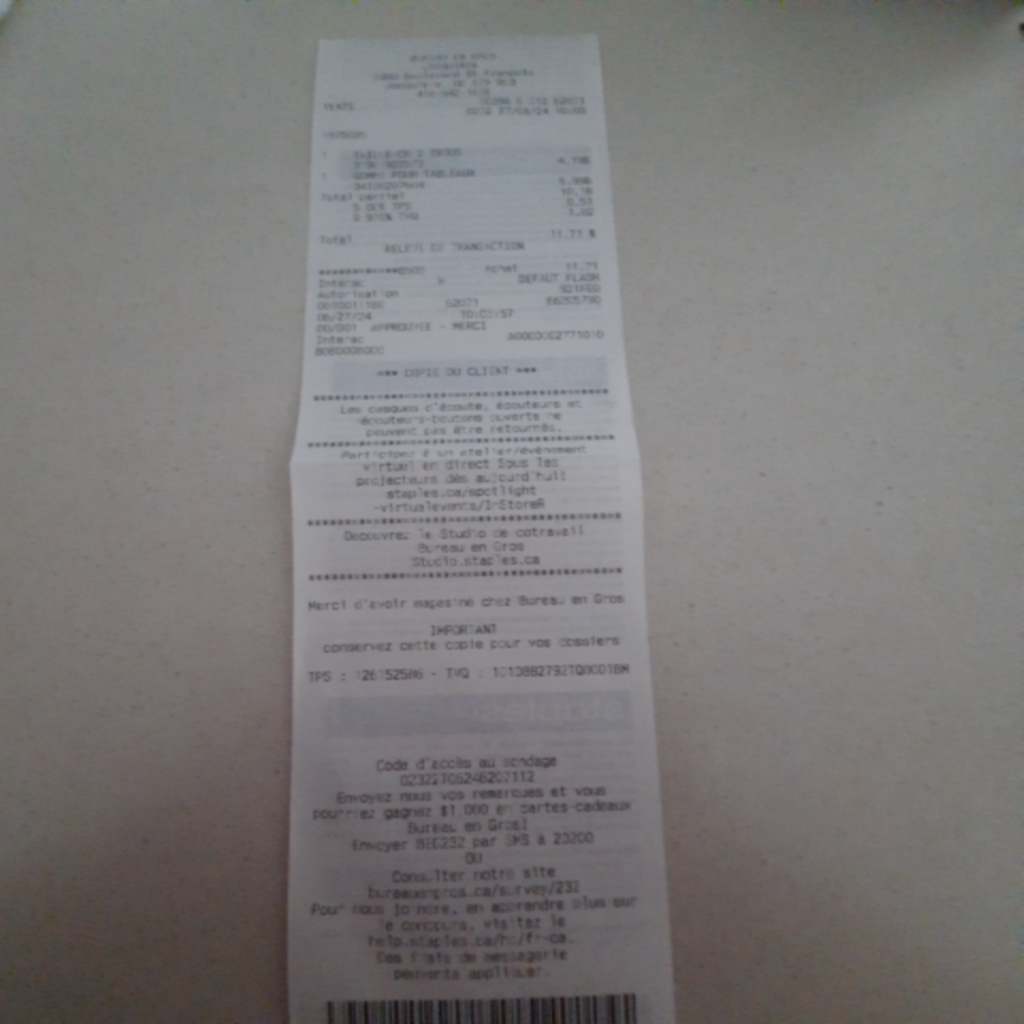recipt: (283, 29, 678, 1014)
